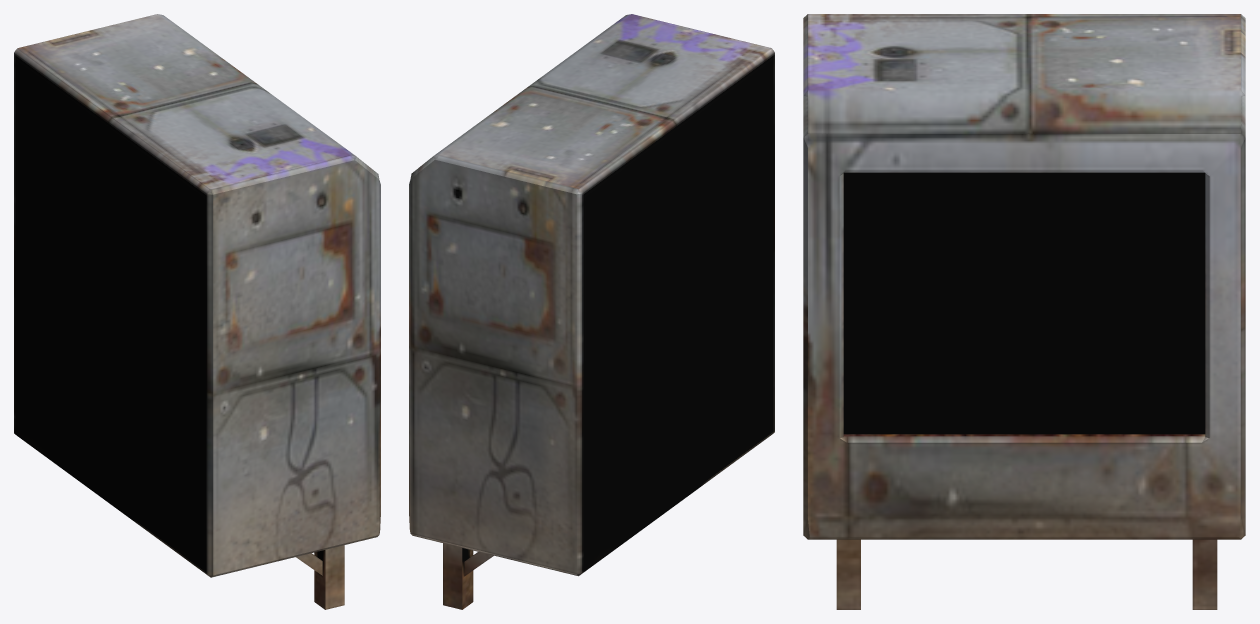
The picture shows the model from 3 angles, left to right: view 1: azimuth 30°, elevation 25°; view 2: azimuth 150°, elevation 25°; view 3: azimuth 270°, elevation 25°; orthographic projection. The views are drawn at different scales.
Visible parts, largest first — view 1: Object_68; view 2: Object_68; view 3: Object_68.
Part boxes in pixels (x1,y1,x2,y2): Object_68: (14,14,380,609); Object_68: (409,14,774,609); Object_68: (803,14,1245,609).
Size of the model in its own units: 0.4827 by 1.22 by 0.9512.
1 material, 1 textured.
